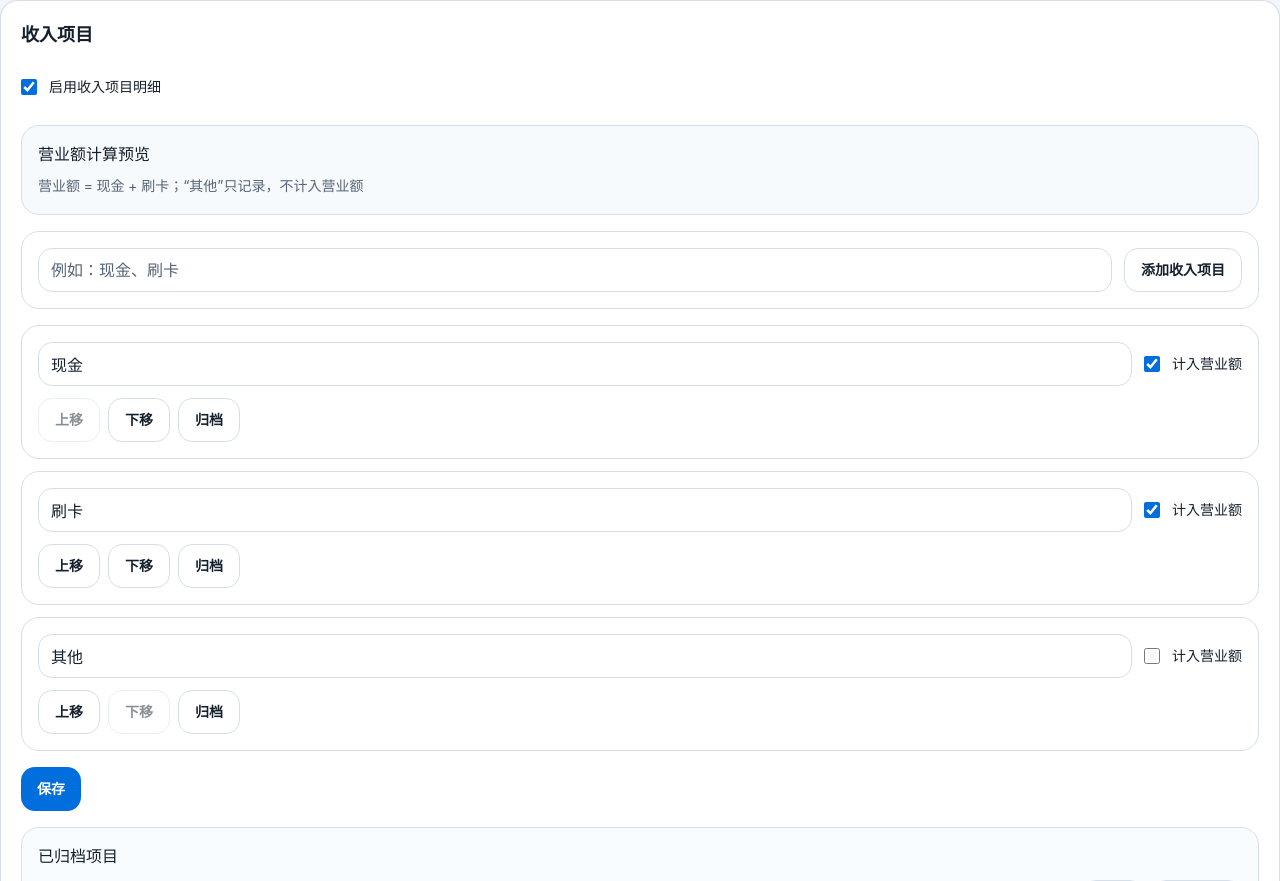
Scenario: IncomeItemsPanel › archives and restores categories and explains why referenced categories cannot be deleted
What coordinates should you click on to do the following:
click the button with aria-label "归档 现金"
I would click on:
 (209, 420)
Its box is [178, 398, 240, 442].
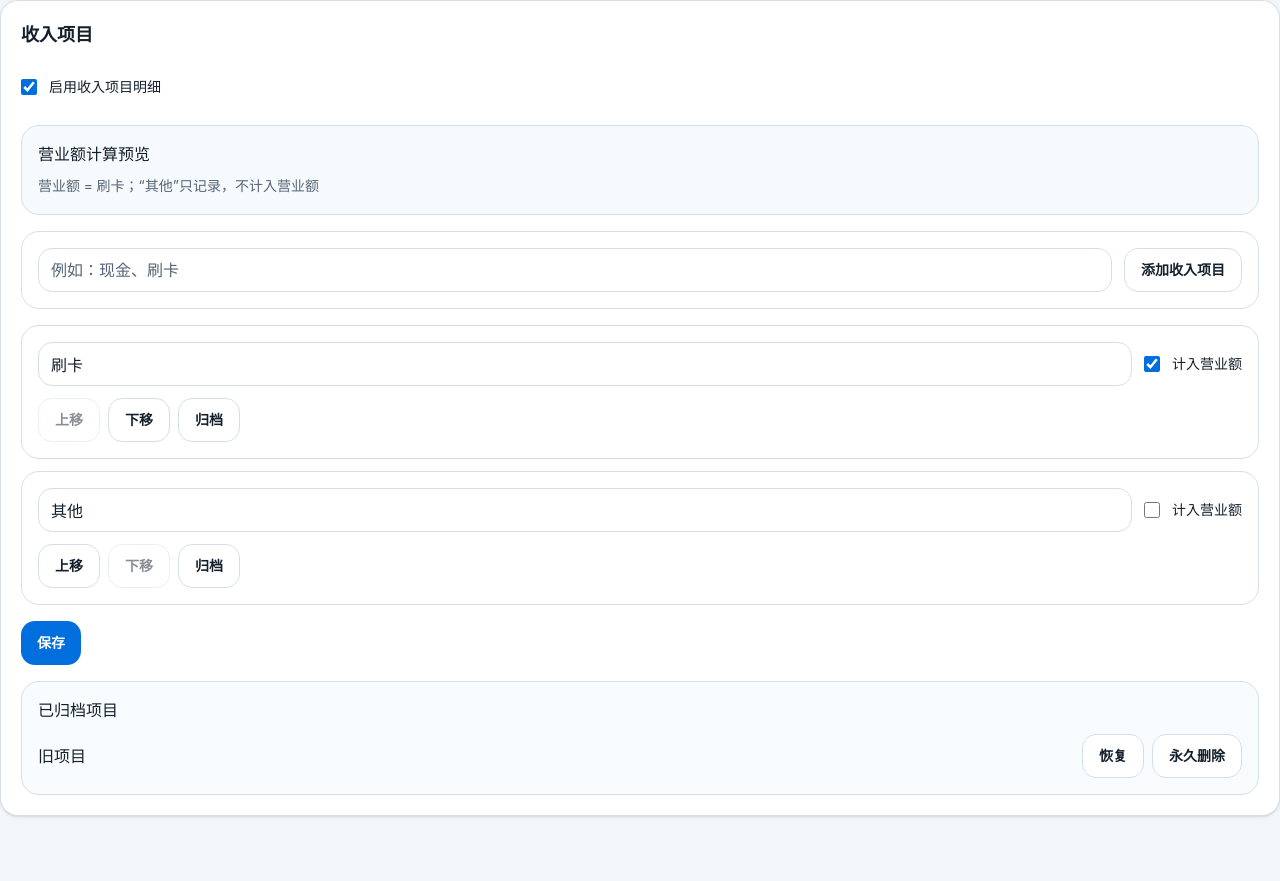
What coordinates should you click on to do the following:
click the button with aria-label "恢复 旧项目"
I would click on:
 (1113, 756)
Its box is [1082, 734, 1144, 778].
(page scrolled)
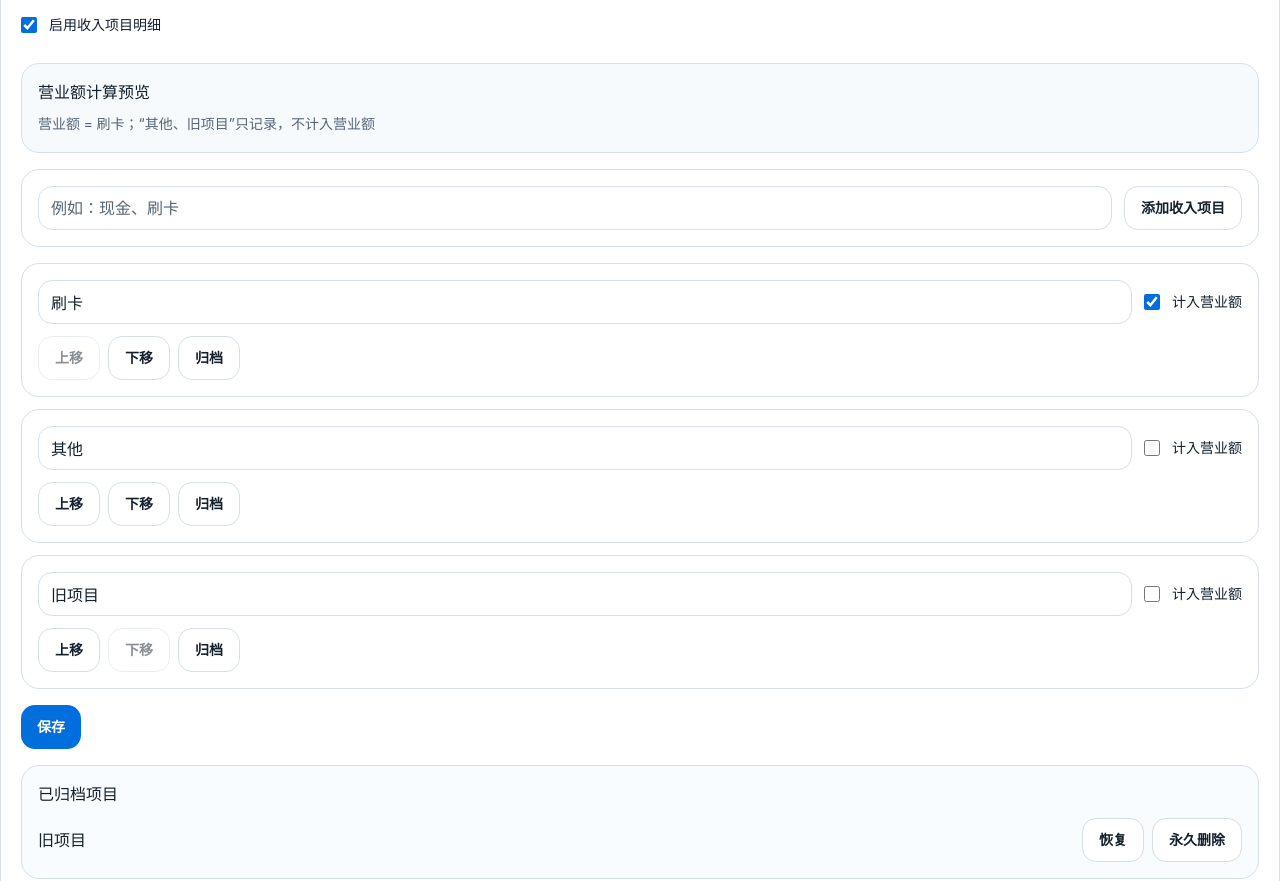
What coordinates should you click on to do the following:
click the button with aria-label "永久删除 旧项目"
I would click on:
 (1197, 840)
Its box is [1152, 818, 1242, 862].
(page scrolled)
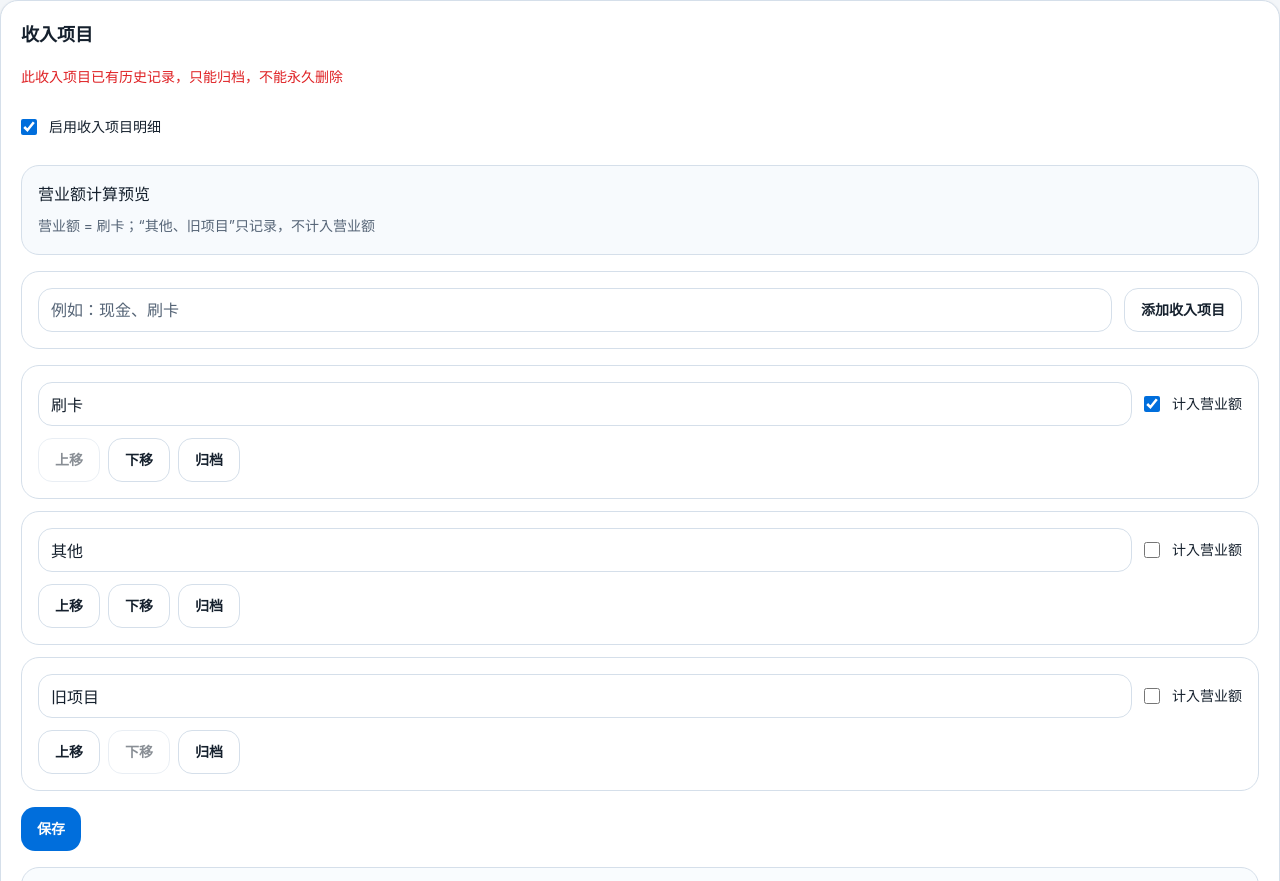
Result: the message reads "此收入项目已有历史记录，只能归档，不能永久删除" at [21, 68, 343, 85]
